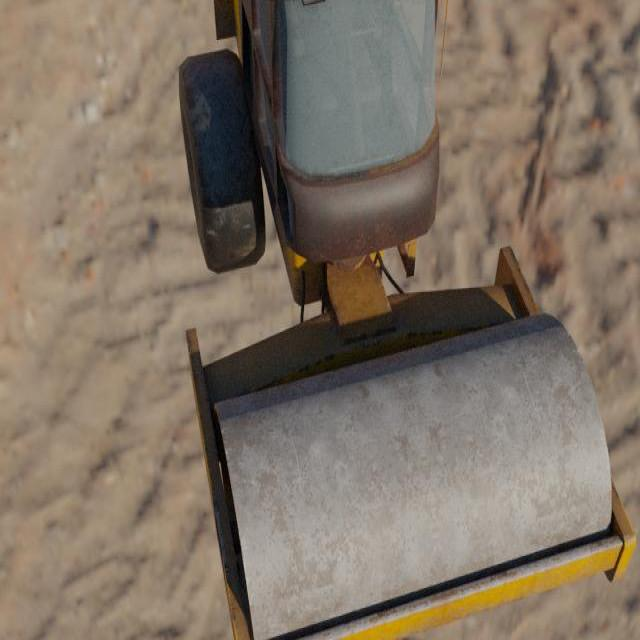Roller: (178, 0, 636, 640)
